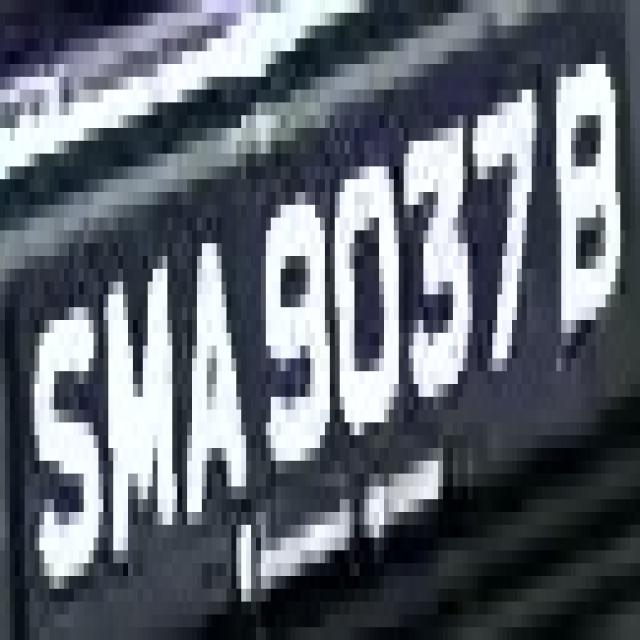0: (325, 128, 404, 435)
3: (394, 77, 477, 410)
7: (468, 64, 542, 435)
9: (251, 179, 340, 486)
A: (172, 205, 261, 576)
B: (532, 26, 630, 371)
M: (89, 243, 187, 589)
S: (30, 269, 99, 563)
